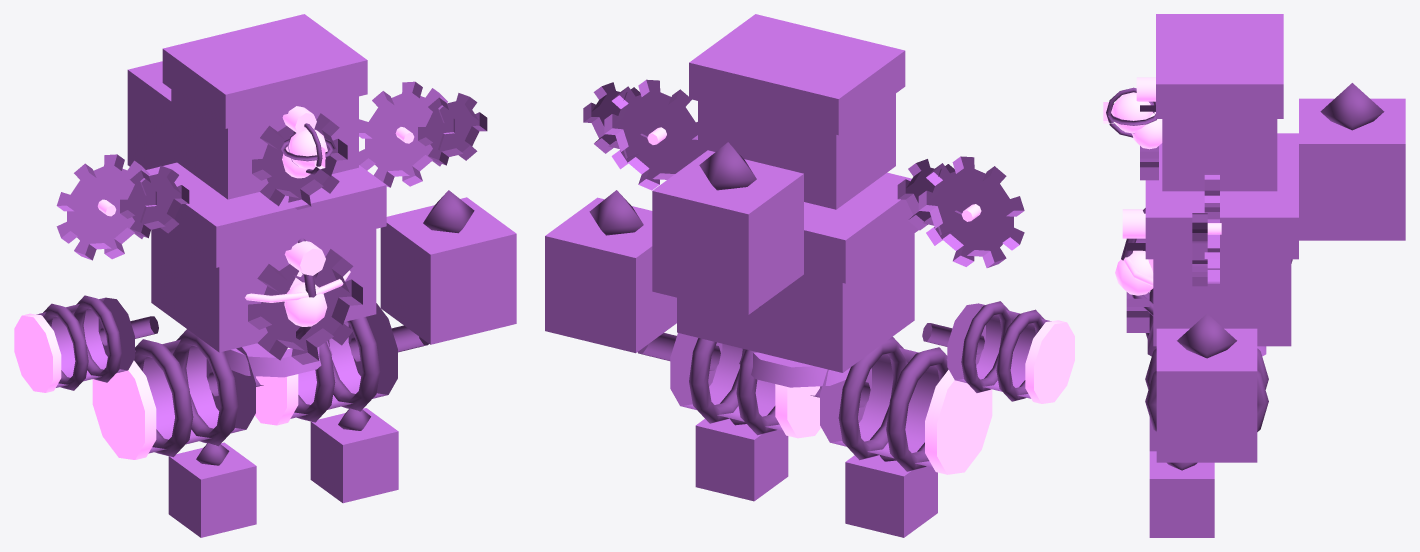
The model's file is golem_142.glb.
3 renders of one model, left to right at view 1: azimuth 30°, elevation 25°; view 2: azimuth 150°, elevation 25°; view 3: azimuth 270°, elevation 25°, orthographic. The views are drawn at different scales.
Parts seen in each view (by area): view 1: Body, Detail, Glow; view 2: Body, Detail, Glow; view 3: Body, Detail, Glow.
Part boxes in pixels (bbox=[...]): Body: bbox=[36, 14, 516, 537]; Detail: bbox=[43, 93, 487, 465]; Glow: bbox=[14, 106, 414, 459]; Body: bbox=[545, 14, 1051, 537]; Detail: bbox=[583, 82, 1044, 471]; Glow: bbox=[647, 127, 1074, 474]; Body: bbox=[1133, 14, 1405, 537]; Detail: bbox=[1106, 83, 1384, 470]; Glow: bbox=[1103, 77, 1221, 295].
Size of the model in its own units: 1.3 by 1.18 by 0.7359.
